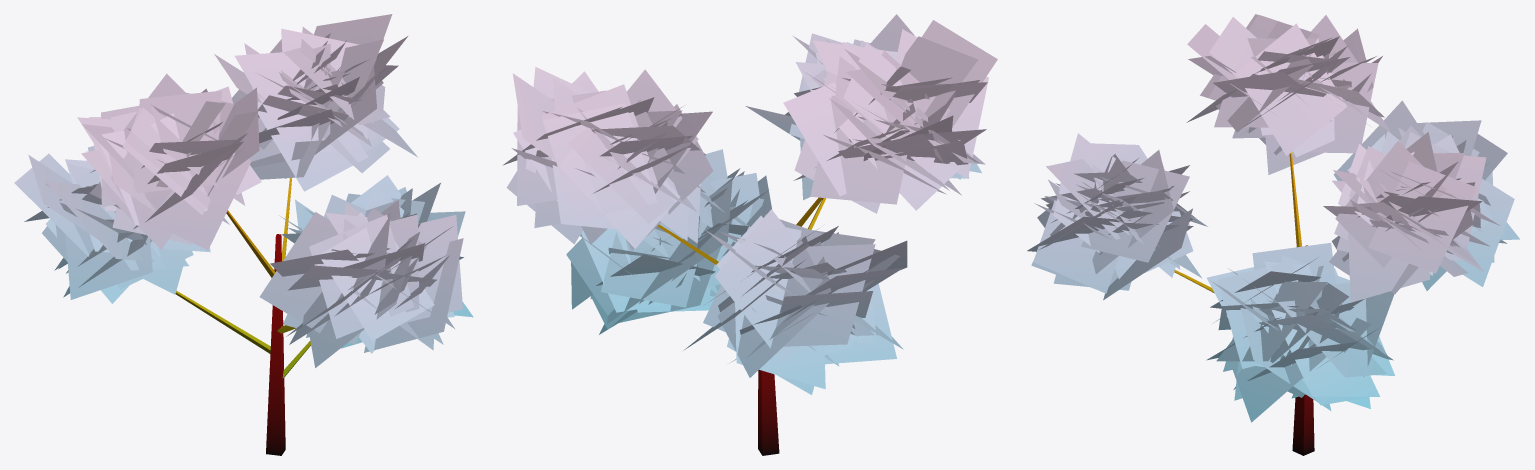
File: oak-lod2.glb
3 views of the same model, side by side, from view 1: azimuth 30°, elevation 25°; view 2: azimuth 150°, elevation 25°; view 3: azimuth 270°, elevation 25° (orthographic). The views are drawn at different scales.
Parts seen in each view (by area): view 1: oak canopy, oak trunk and branches; view 2: oak canopy, oak trunk and branches; view 3: oak canopy, oak trunk and branches.
Boxes of the visible parts, x1,y1,x2,y2 form: oak canopy: (14,14,473,367); oak trunk and branches: (175,178,310,455); oak canopy: (502,14,997,394); oak trunk and branches: (657,197,826,455); oak canopy: (1027,14,1519,422); oak trunk and branches: (1174,152,1314,455).
Size of the model in its own units: 12.06 by 11.91 by 14.3.
